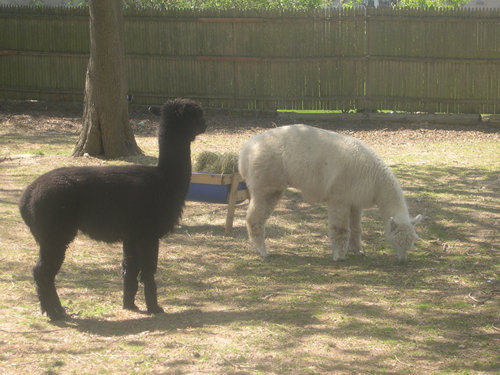alpaca: (17, 96, 208, 322), (237, 124, 423, 265)
